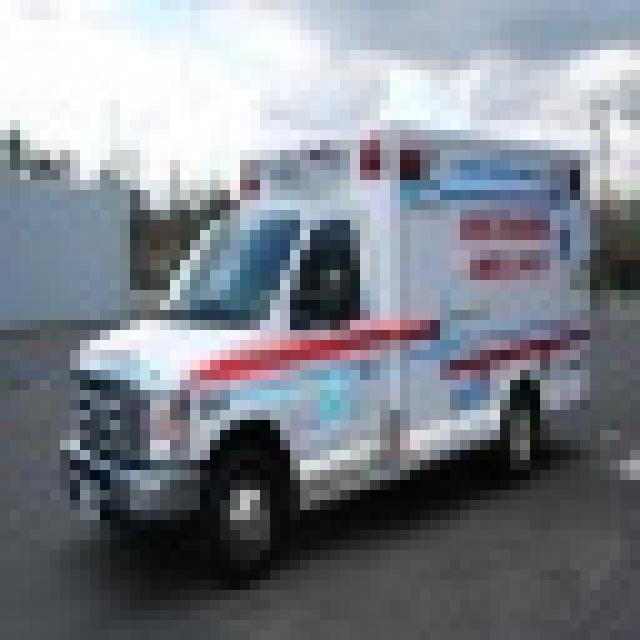Ambulance: (50, 110, 590, 570)
